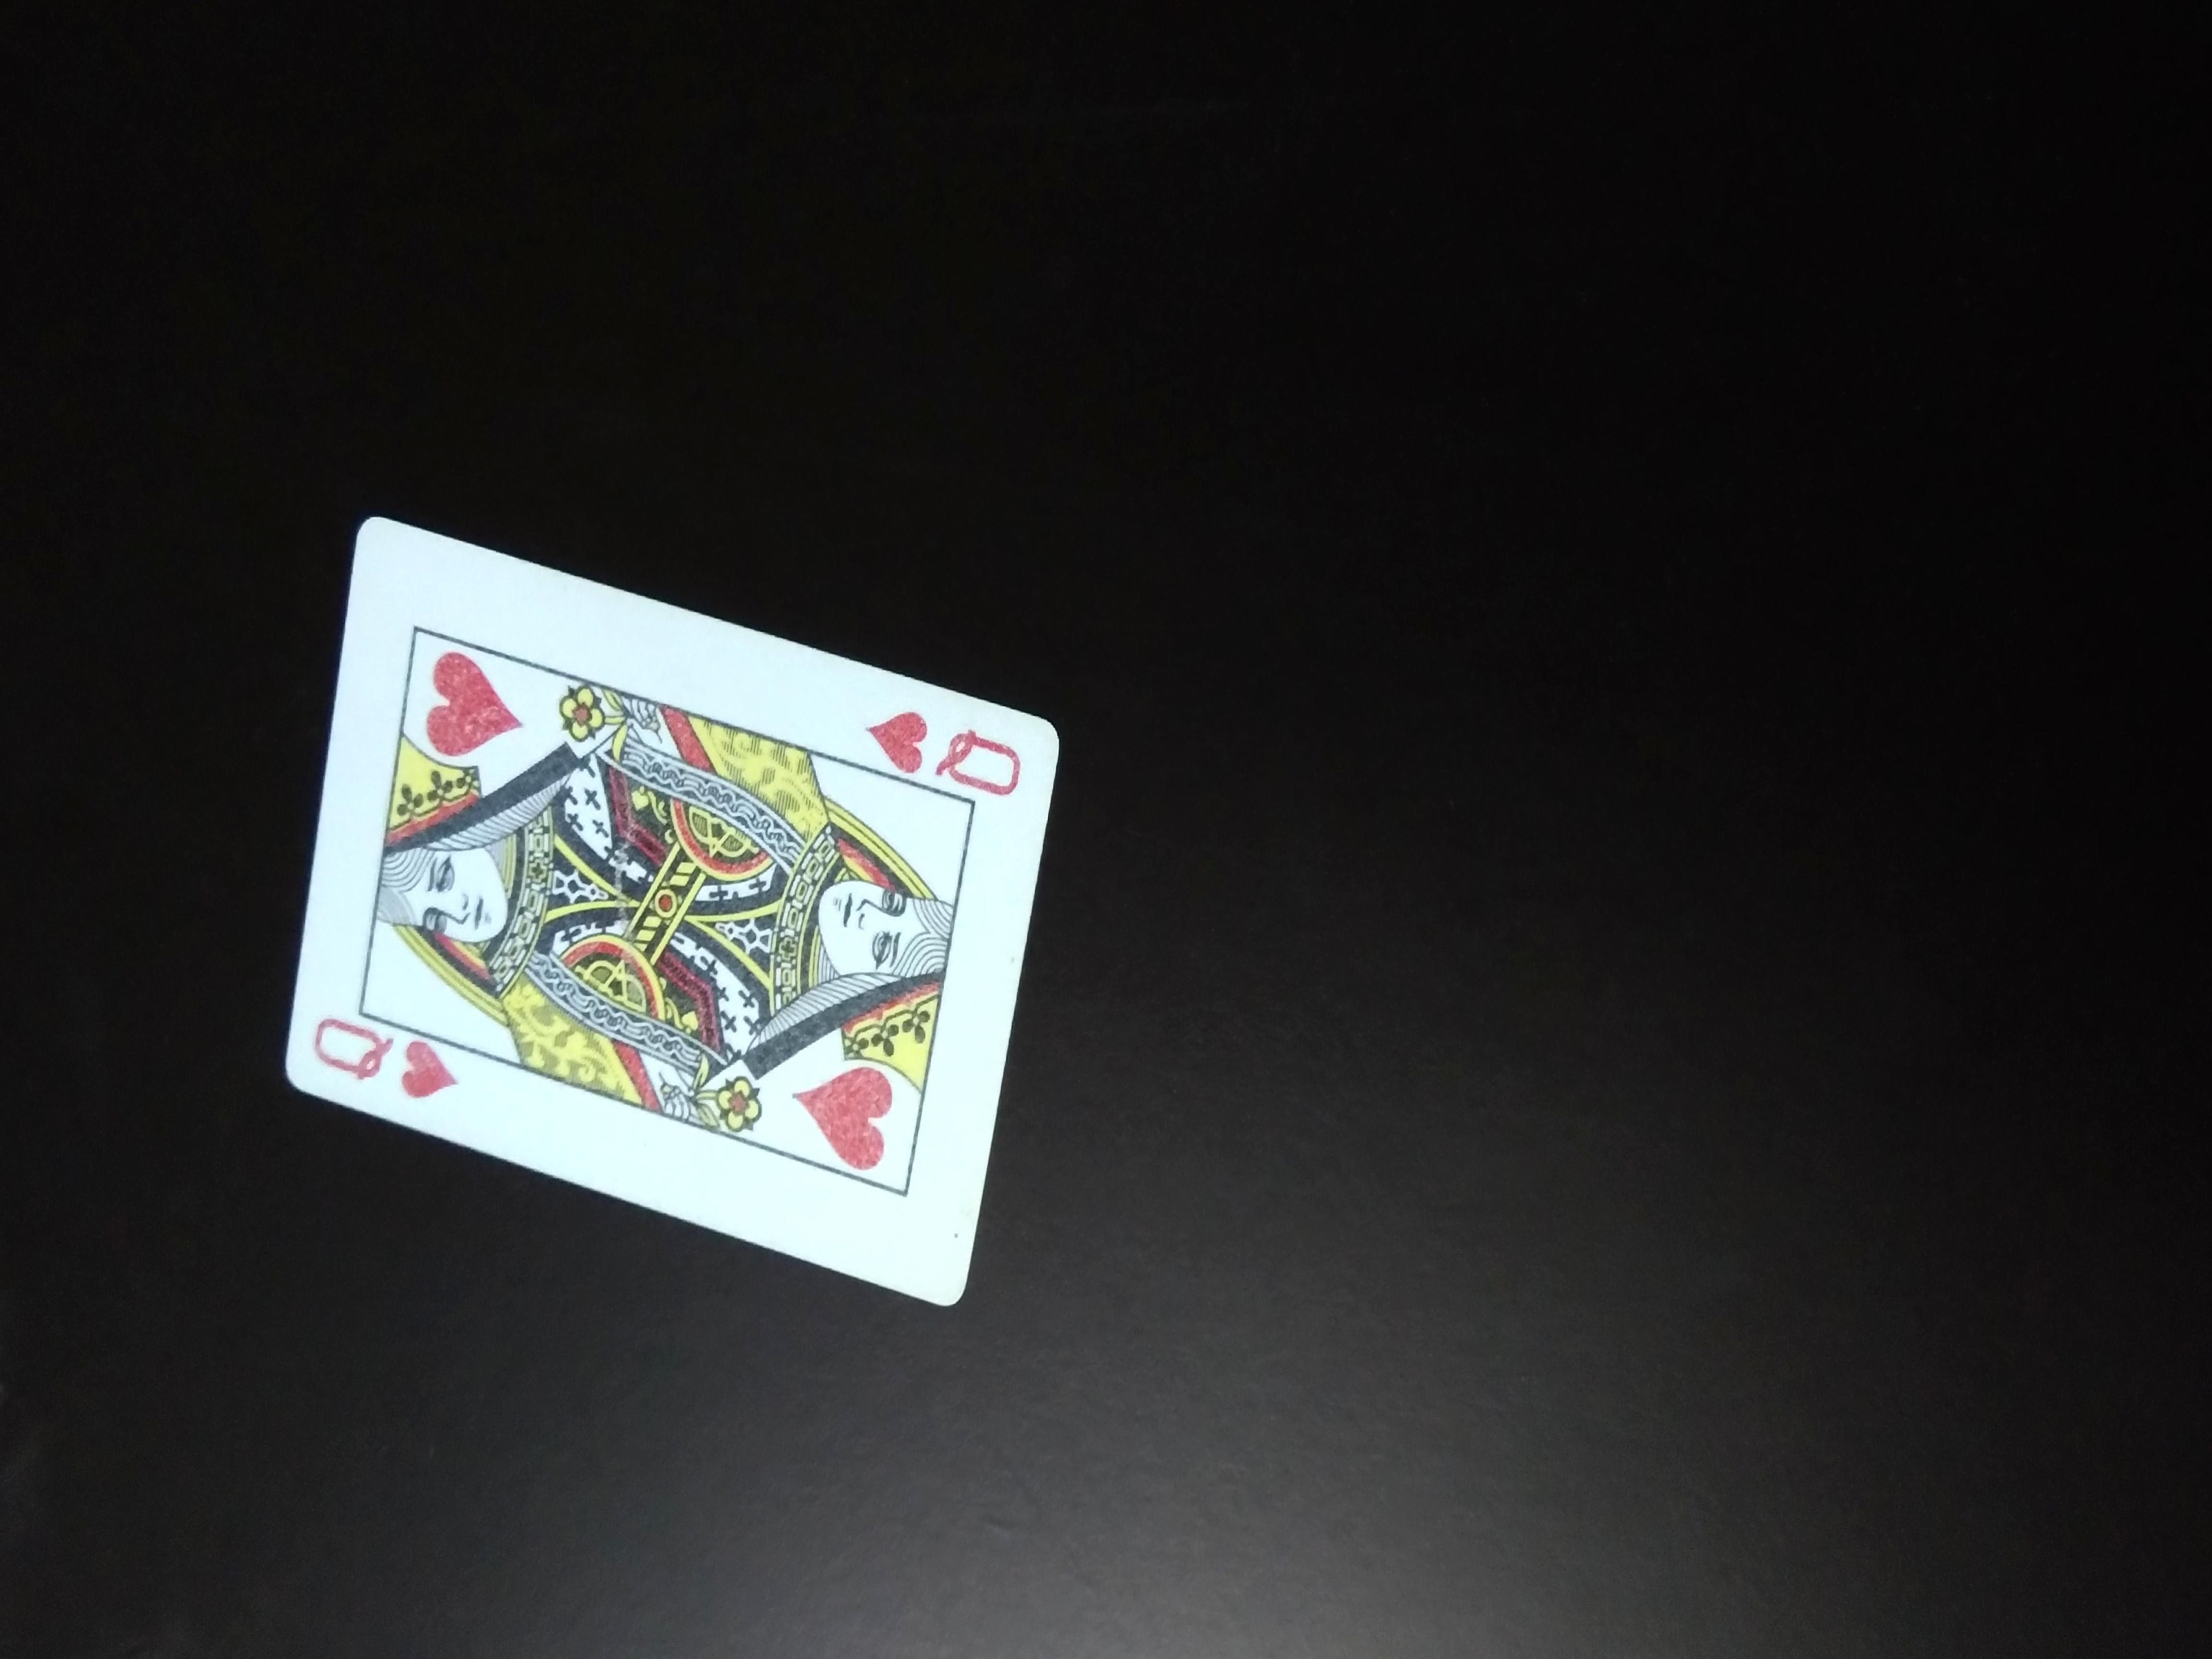QH: (866, 676, 1035, 809)
